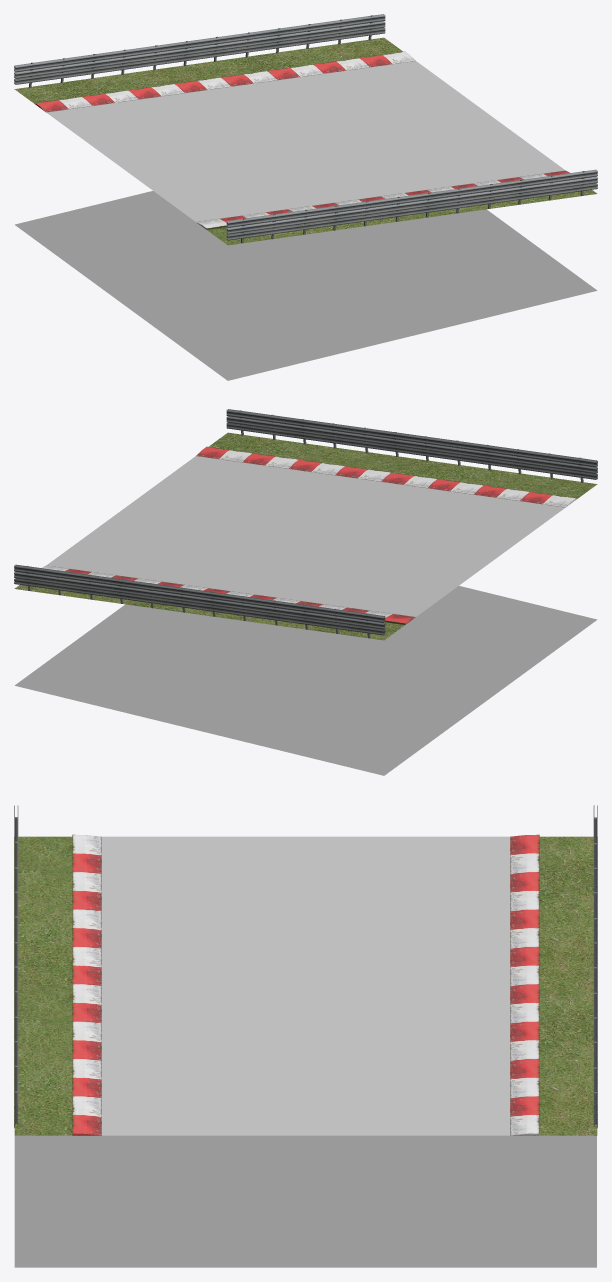
Rendered from Track_Gradient_2Metre.fbx.
3 views of the same model, one above another, from view 1: azimuth 30°, elevation 25°; view 2: azimuth 150°, elevation 25°; view 3: azimuth 270°, elevation 25° (orthographic). The views are drawn at different scales.
Visible parts, largest first — view 1: Snap_Plane_Invisible, Road, Grass, Rail_A, Rail_B, Curb_B, Carb_A; view 2: Snap_Plane_Invisible, Road, Grass, Rail_B, Rail_A, Carb_A, Curb_B; view 3: Road, Snap_Plane_Invisible, Grass, Carb_A, Curb_B, Rail_B, Rail_A.
Part boxes in pixels (<box>): Snap_Plane_Invisible: <box>15,191,597,380</box>; Road: <box>47,61,565,221</box>; Grass: <box>14,37,597,245</box>; Rail_A: <box>226,169,597,243</box>; Rail_B: <box>14,14,385,87</box>; Curb_B: <box>35,51,415,112</box>; Carb_A: <box>196,170,569,229</box>; Snap_Plane_Invisible: <box>15,586,597,775</box>; Road: <box>46,456,564,616</box>; Grass: <box>14,432,597,640</box>; Rail_B: <box>14,564,385,638</box>; Rail_A: <box>226,409,597,482</box>; Carb_A: <box>196,446,576,507</box>; Curb_B: <box>42,565,415,624</box>; Road: <box>102,836,509,1135</box>; Snap_Plane_Invisible: <box>14,1135,596,1267</box>; Grass: <box>14,836,597,1135</box>; Carb_A: <box>72,834,101,1135</box>; Curb_B: <box>510,834,539,1135</box>; Rail_B: <box>593,805,597,1127</box>; Rail_A: <box>14,805,18,1127</box>.
Size of the model in its own units: 20.01 by 8.22 by 20.05.
